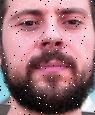without_mask: (2, 1, 95, 115)
